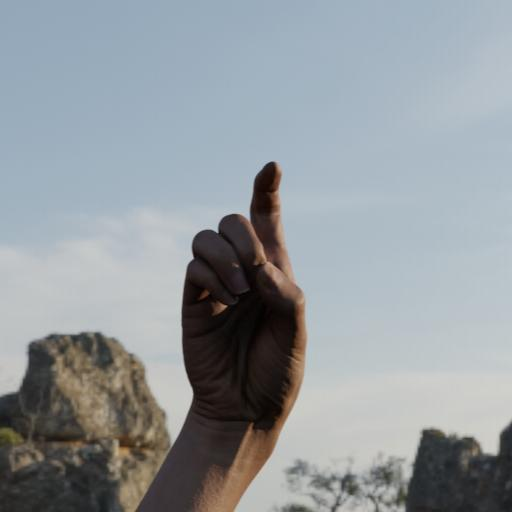X: (171, 156, 320, 441)
